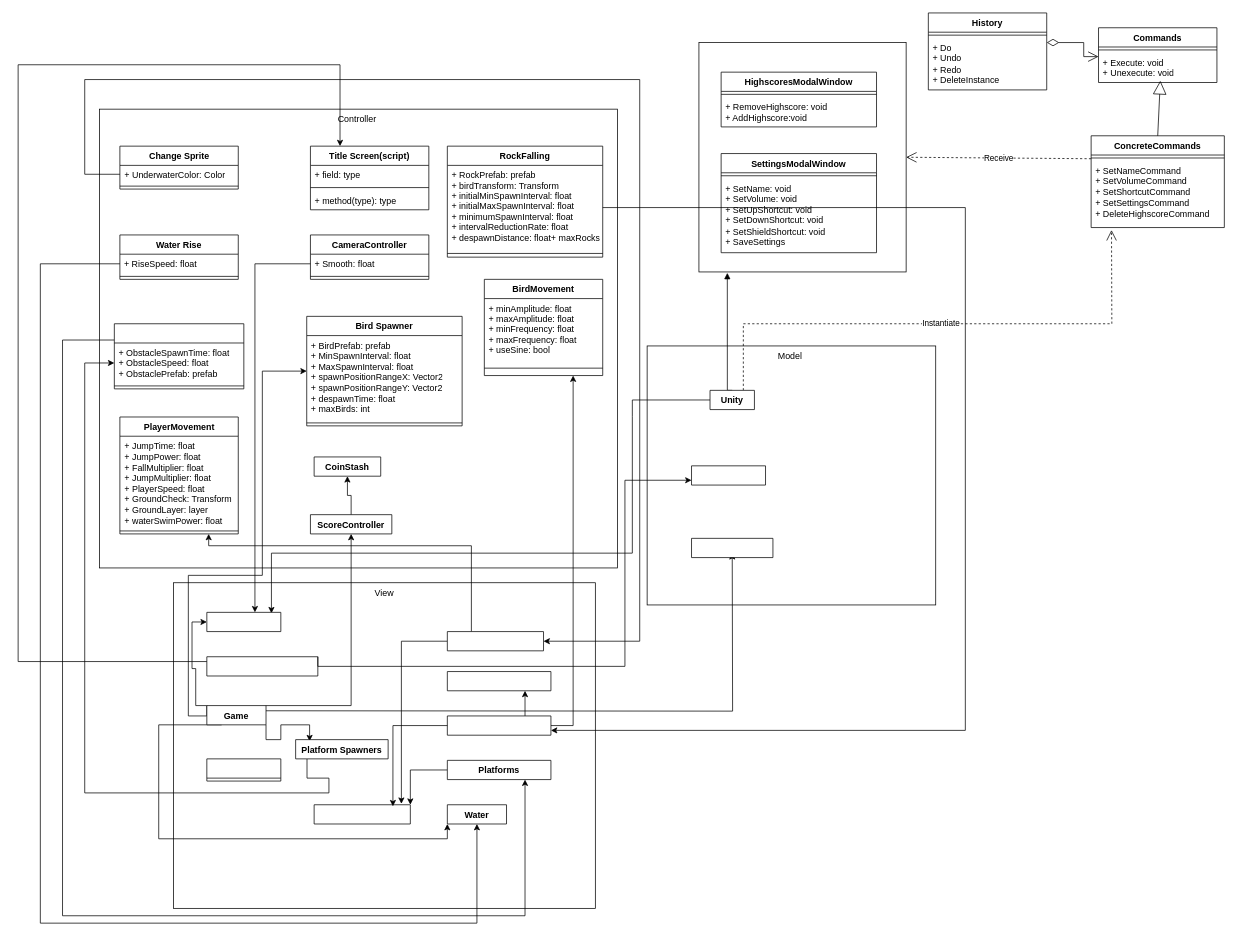
Image size: 1237x942. Some labels were removed from this diagram. The shapes that lost their labels are listed below. From the top down, each one's box as (x1, y1, x2, y2) in pixels, then its label:
(698, 42, 906, 272): Receiver
(114, 323, 244, 389): Platform Controller
(691, 465, 766, 485): Sound
(691, 538, 773, 558): EventSystem
(206, 612, 281, 632): Main Camera
(447, 631, 544, 651): Player
(206, 656, 318, 676): Title Screen(Scene)
(447, 671, 551, 691): Rock
(447, 715, 551, 735): Bird
(206, 758, 281, 781): Score Text
(313, 804, 410, 824): 2D box Collision
